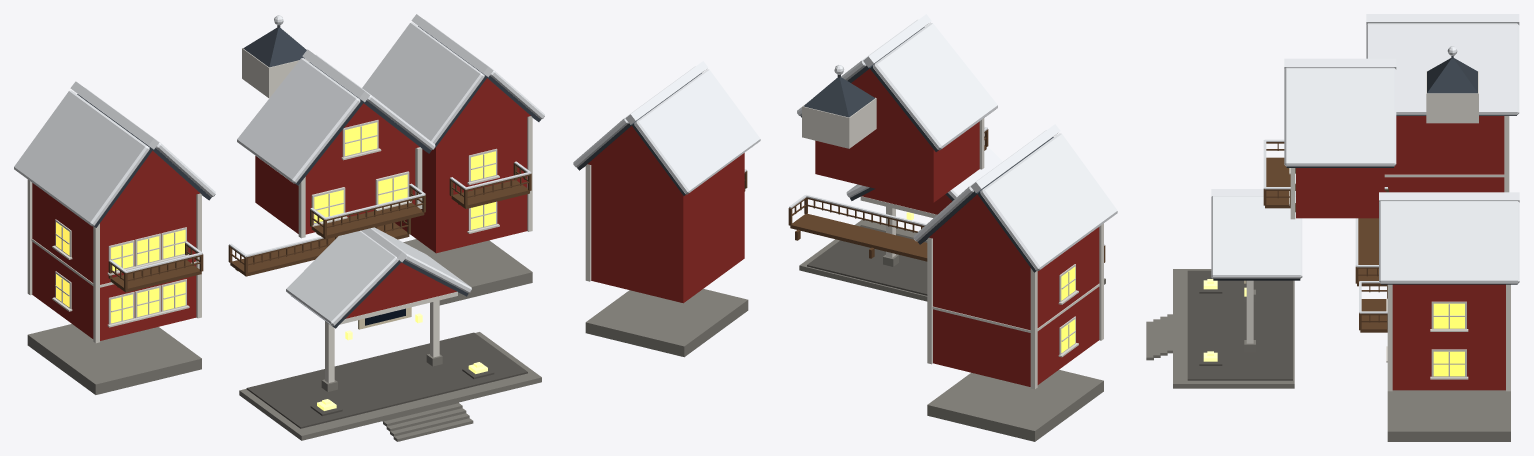
Rendered from lodge-annex-3.glb.
3 renders of one model, left to right at view 1: azimuth 30°, elevation 25°; view 2: azimuth 150°, elevation 25°; view 3: azimuth 270°, elevation 25°, orthographic. The views are drawn at different scales.
Parts seen in each view (by area): view 1: lodge-annex-3; view 2: lodge-annex-3; view 3: lodge-annex-3.
Boxes of the visible parts, <box> form: lodge-annex-3: <box>14,14,544,441</box>; lodge-annex-3: <box>573,14,1117,441</box>; lodge-annex-3: <box>1146,14,1519,441</box>.
Size of the model in its own units: 31.65 by 19.83 by 22.68.
